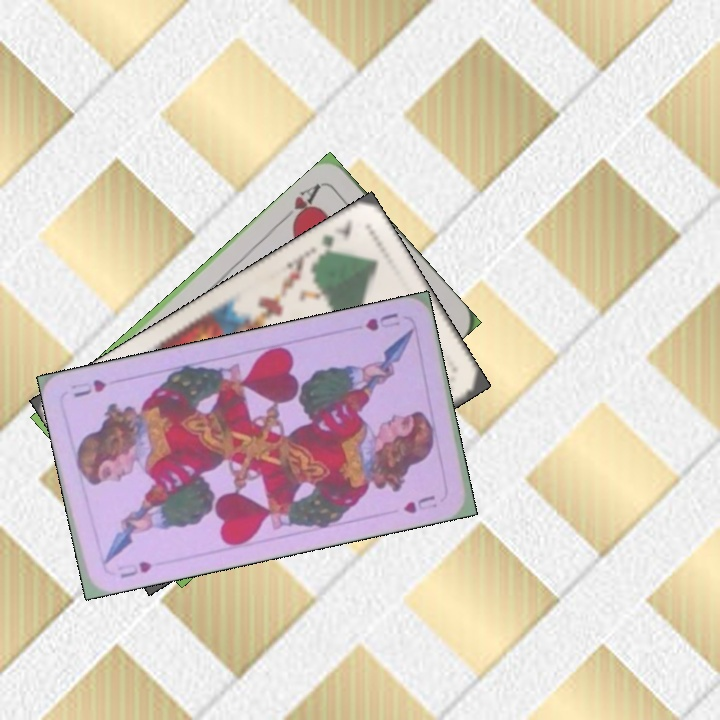GK: (312, 217, 356, 263)
HA: (277, 178, 324, 230)
HU: (361, 308, 403, 334), (110, 557, 155, 581)
